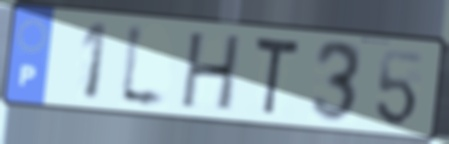1: (78, 20, 110, 104)
3: (308, 38, 365, 127)
5: (374, 46, 427, 128)
H: (177, 30, 245, 115)
L: (116, 20, 171, 115)
T: (250, 33, 302, 121)
